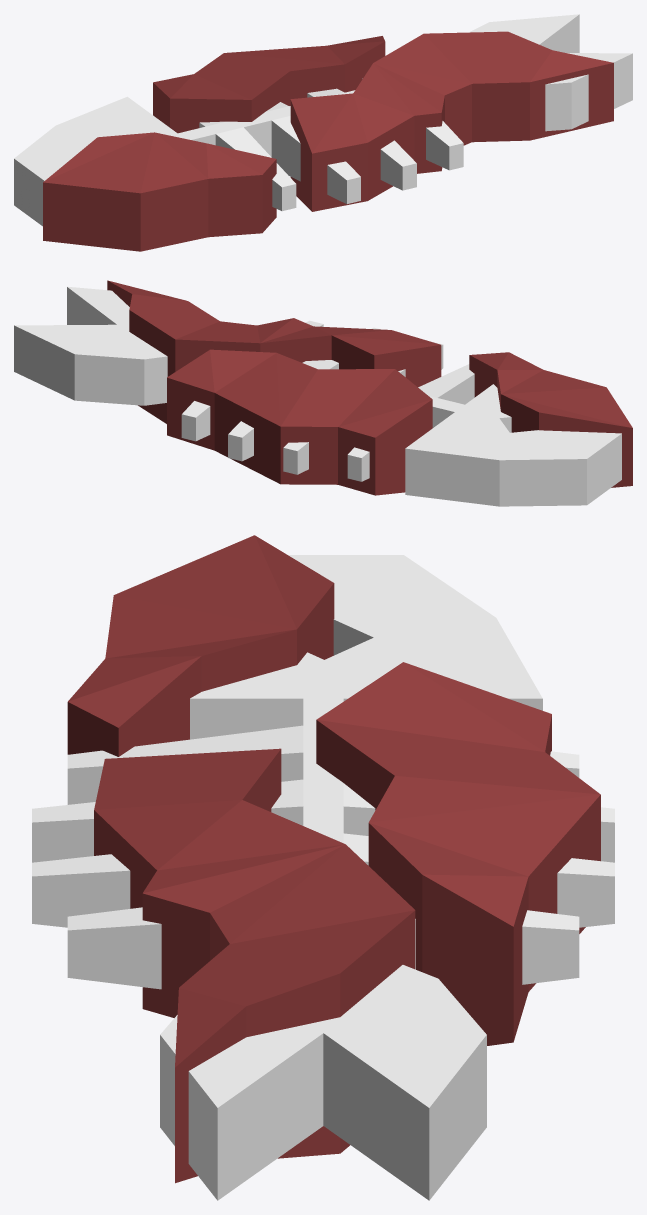
Rendered from Dead Fish 1.fbx.
3 views of the same model, one above another, from view 1: azimuth 30°, elevation 25°; view 2: azimuth 150°, elevation 25°; view 3: azimuth 270°, elevation 25° (orthographic). The views are drawn at different scales.
Parts seen in each view (by area): view 1: Box003; view 2: Box003; view 3: Box003.
Boxes of the visible parts, x1,y1,x2,y2 form: Box003: [14, 14, 632, 251]; Box003: [14, 280, 632, 506]; Box003: [32, 535, 614, 1200].
Size of the model in its own units: 44.2 by 6.62 by 19.39.
